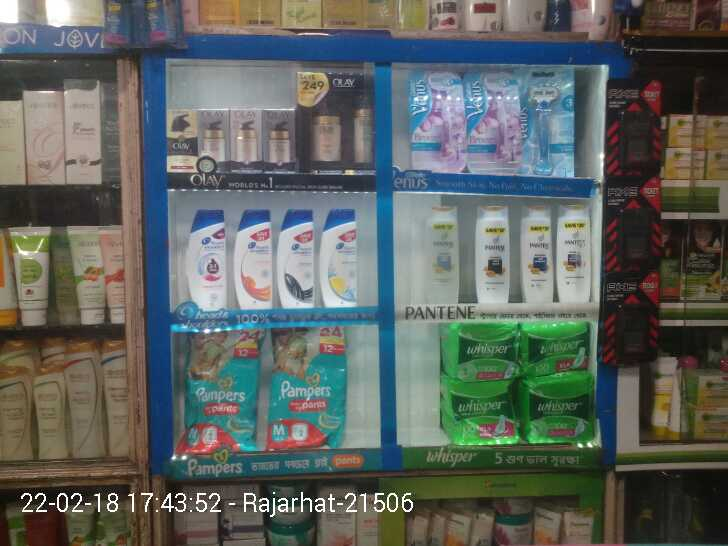venus: (464, 75, 522, 175), (522, 70, 574, 175), (411, 75, 464, 167)
